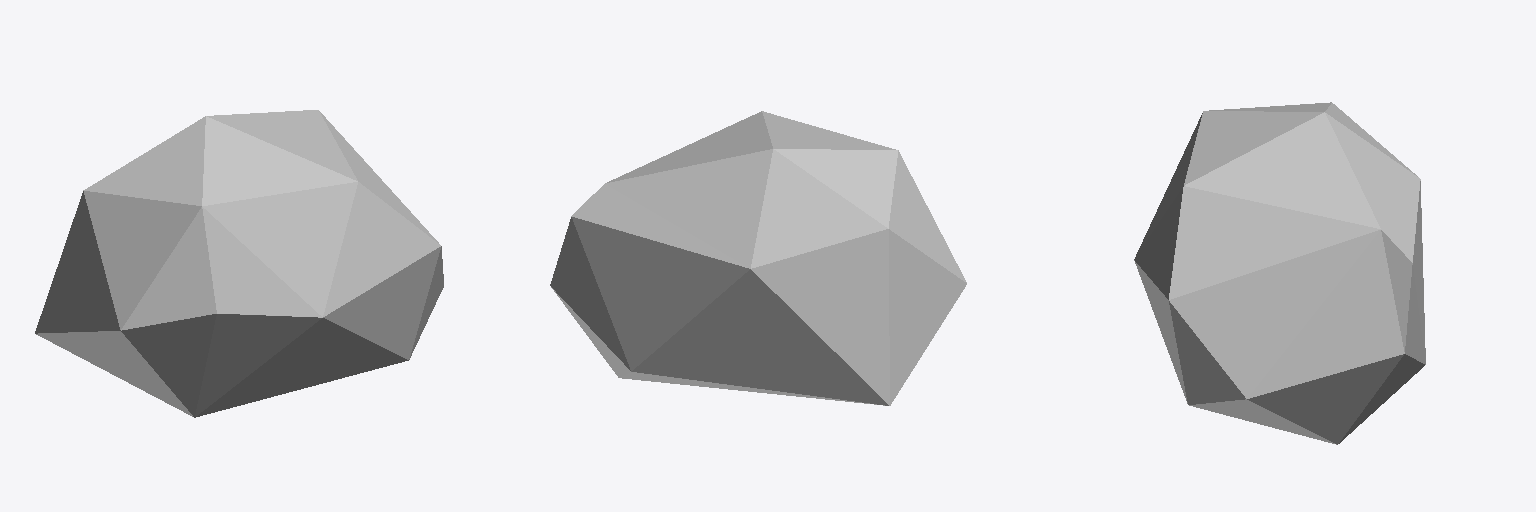
File: bush3.obj
3 renders of one model, left to right at view 1: azimuth 30°, elevation 25°; view 2: azimuth 150°, elevation 25°; view 3: azimuth 270°, elevation 25°, orthographic.
Parts seen in each view (by area): view 1: Hedge2_Icosphere.021; view 2: Hedge2_Icosphere.021; view 3: Hedge2_Icosphere.021.
Part boxes in pixels (x1,y1,x2,y2): Hedge2_Icosphere.021: (35,110,443,417); Hedge2_Icosphere.021: (550,111,966,405); Hedge2_Icosphere.021: (1134,102,1425,444).
Bounding box in the file's own units: 1.39 × 1.01 × 1.02.